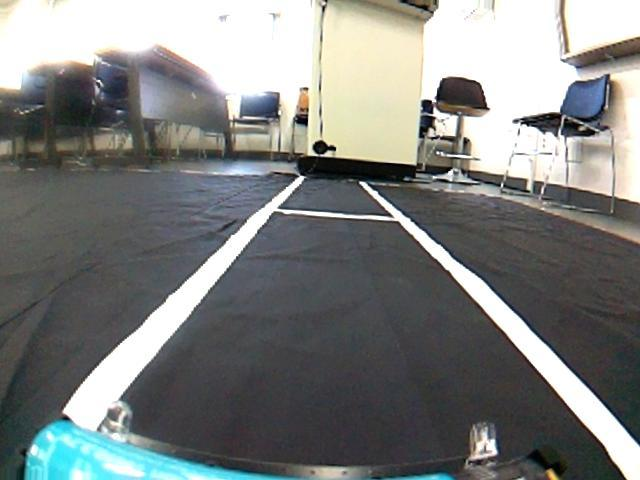straight: (51, 224, 640, 444)
